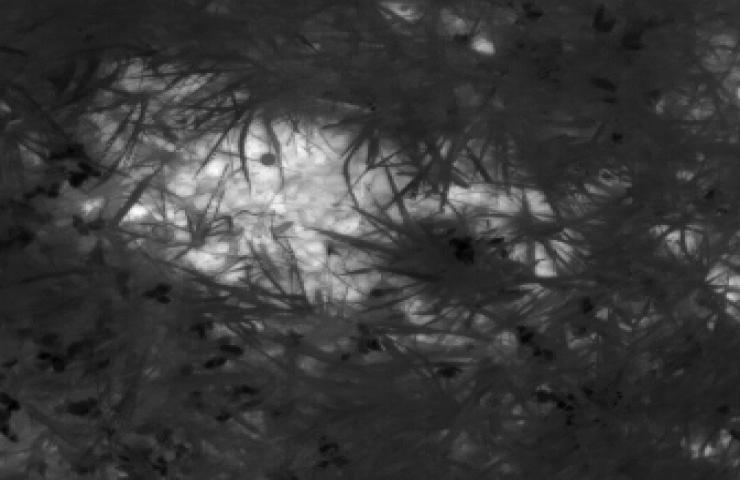landmines: (87, 57, 429, 320)
